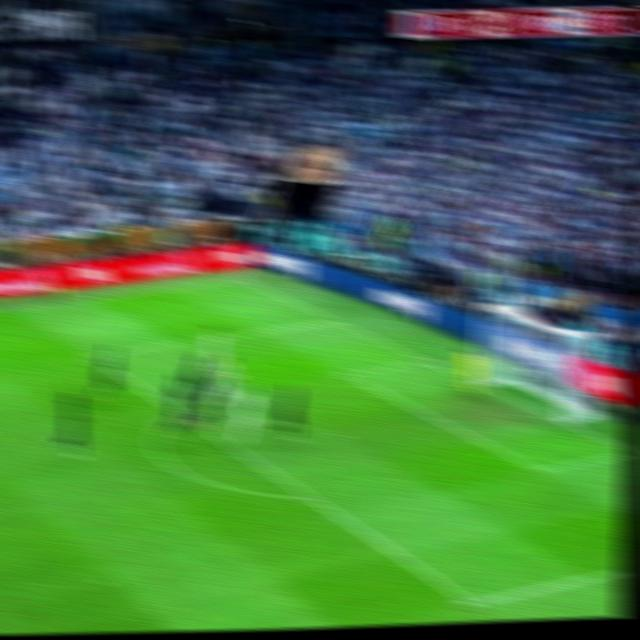bigarea_bottom_inner: (456, 585, 490, 618)
bigarea_top_inner: (79, 344, 105, 365)
bigarea_top_outter: (322, 309, 347, 328)
bottom_arc_area_intersection: (294, 482, 324, 508)
corner: (227, 270, 253, 285)
smallarea_bottom_inner: (524, 453, 557, 484)
smallarea_top_inner: (337, 361, 364, 384)
smallarea_top_outter: (414, 349, 440, 370)
top_arc_area_intersection: (175, 404, 197, 424)
